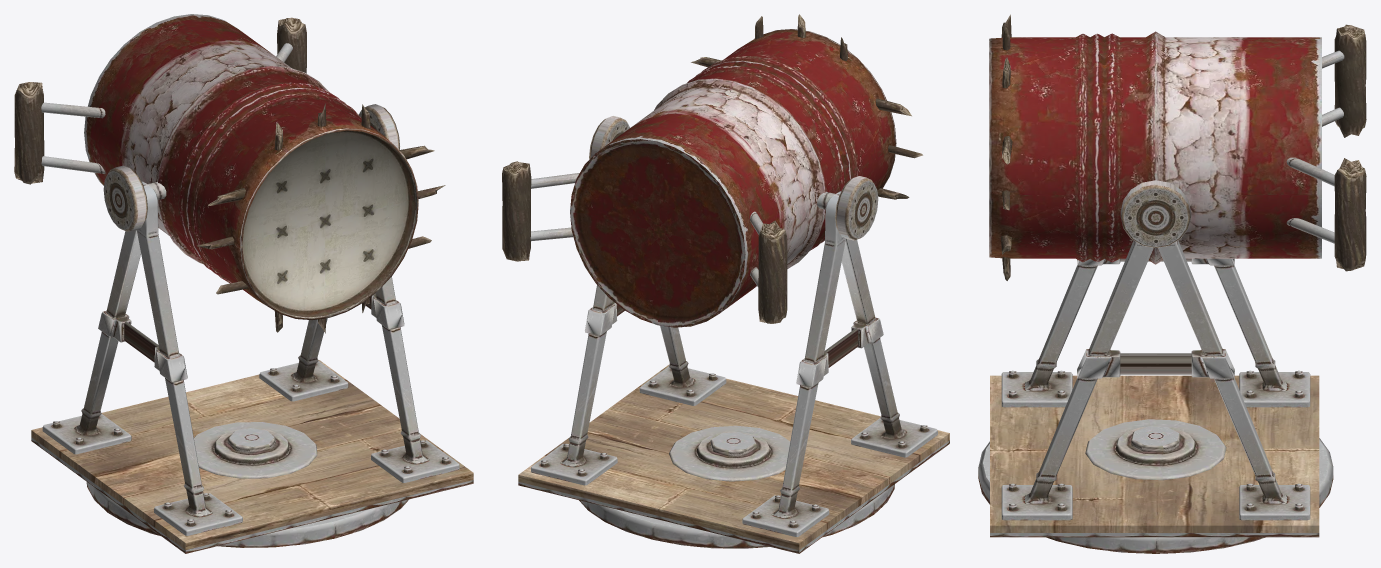
Rendered from searchlight_static.glb.
The picture shows the model from 3 angles, left to right: view 1: azimuth 30°, elevation 25°; view 2: azimuth 150°, elevation 25°; view 3: azimuth 270°, elevation 25°; orthographic projection. The views are drawn at different scales.
Parts seen in each view (by area): view 1: scrap_searchlight_barrel, scrap_searchlight_a; view 2: scrap_searchlight_barrel, scrap_searchlight_a; view 3: scrap_searchlight_barrel, scrap_searchlight_a.
Boxes of the visible parts, <box> form: scrap_searchlight_barrel: <box>14,14,445,333</box>; scrap_searchlight_a: <box>31,181,473,553</box>; scrap_searchlight_barrel: <box>502,14,922,327</box>; scrap_searchlight_a: <box>518,191,949,553</box>; scrap_searchlight_barrel: <box>989,14,1366,280</box>; scrap_searchlight_a: <box>978,240,1333,553</box>.
Bounding box in the file's own units: 1.2 × 1.69 × 1.31.
Materials: 2 (2 with a texture image).
